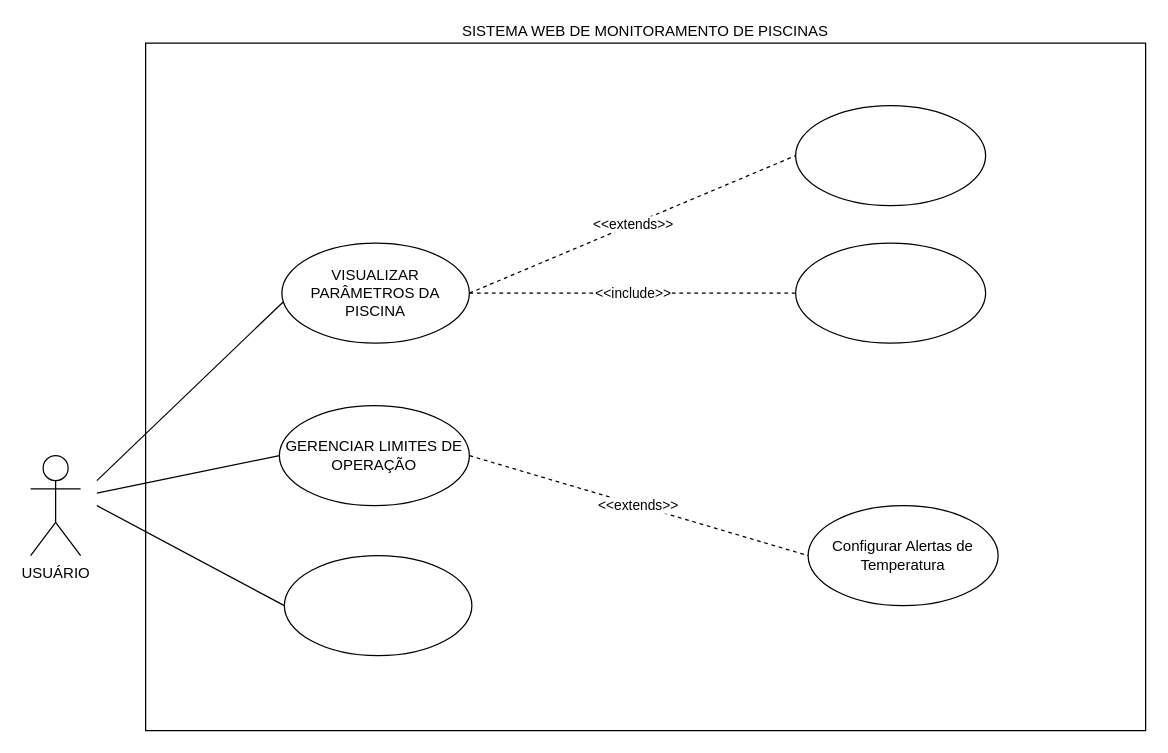
This 1168x753 diagram has some shape labels left out. Here are the shapes that lost their labels. From the top down, the centre of each, then its label:
the point at 890,155: RECEBER ALERTAS DE CONDIÇÃO CRÍTICA
the point at 890,292: CONSULTAR HISTÓRICO
the point at 377,605: ACIONAR BOMBA AUTOMATICAMENTE
